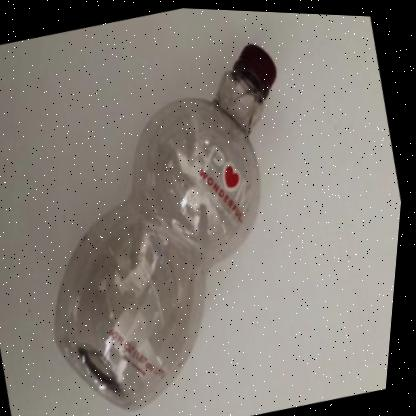Plastic: (61, 43, 277, 409)
